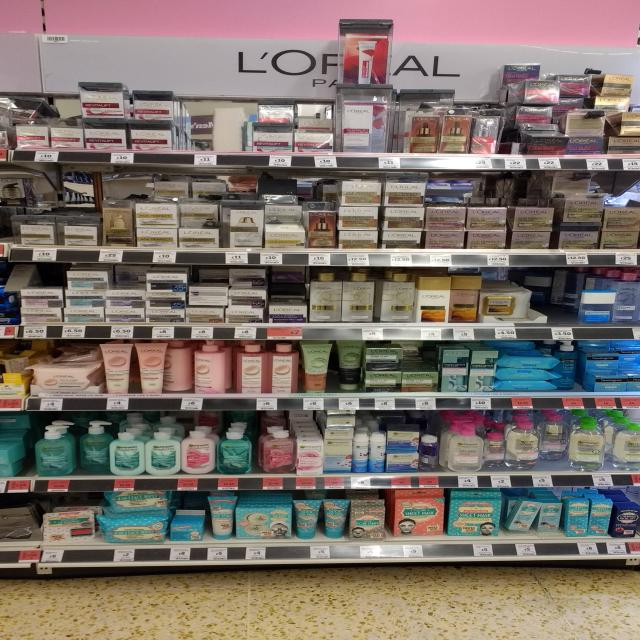empty: (185, 88, 250, 160)
